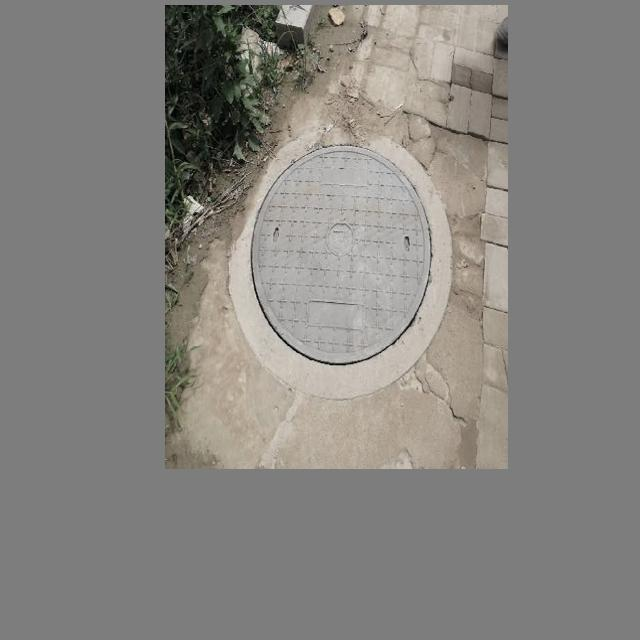good: (220, 128, 454, 407)
